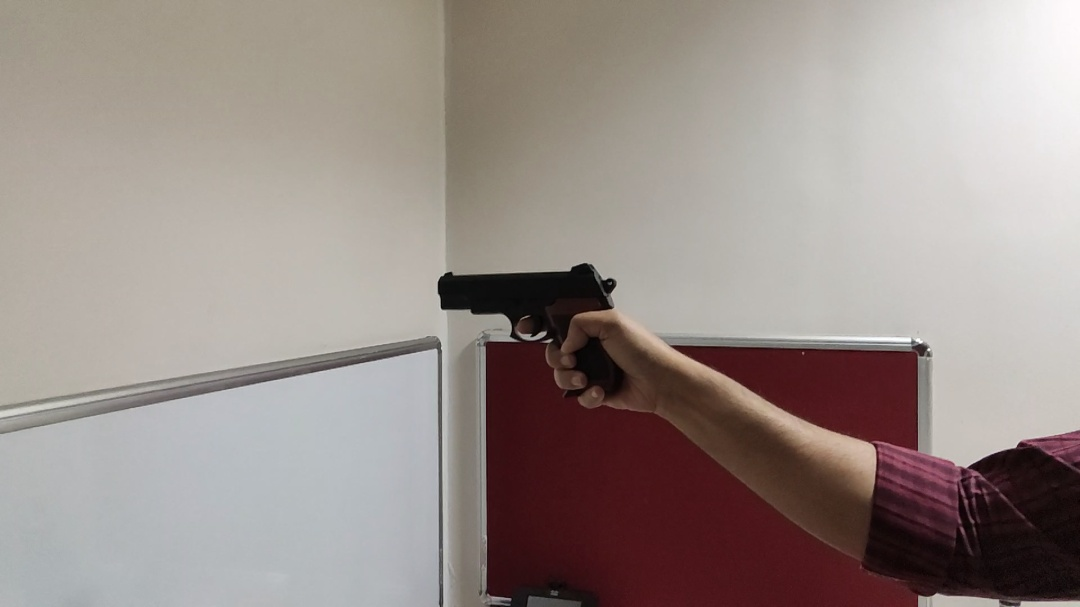gun: (436, 262, 632, 401)
